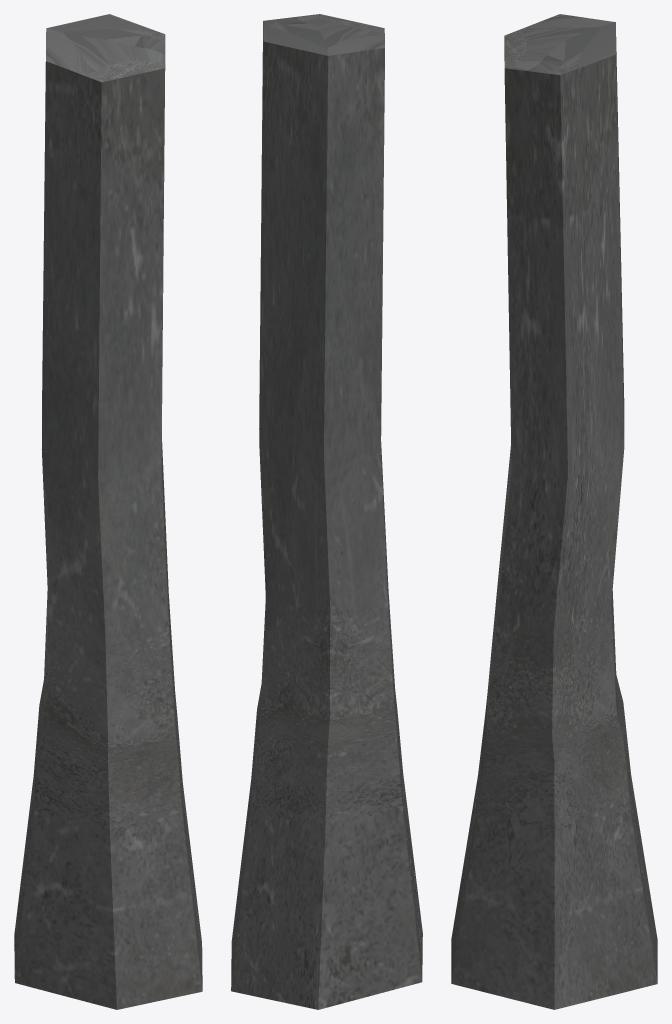
File: TreeStump.fbx
3 views of the same model, side by side, from view 1: azimuth 30°, elevation 25°; view 2: azimuth 150°, elevation 25°; view 3: azimuth 270°, elevation 25° (orthographic).
Visible parts, largest first — view 1: TreeBranchUniveral; view 2: TreeBranchUniveral; view 3: TreeBranchUniveral.
Part boxes in pixels (<box>): TreeBranchUniveral: <box>14,14,202,1009</box>; TreeBranchUniveral: <box>231,14,422,1009</box>; TreeBranchUniveral: <box>451,14,657,1009</box>.
Bounding box in the file's own units: 2 × 9.42 × 1.9.
